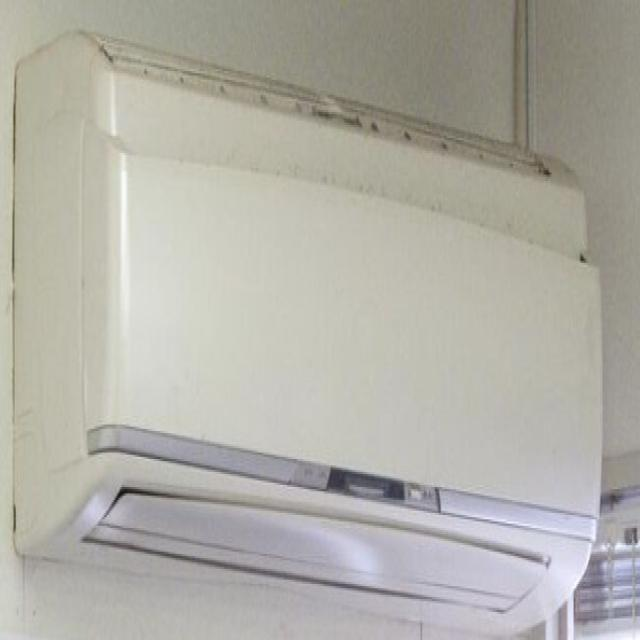electronic: (11, 26, 604, 636)
